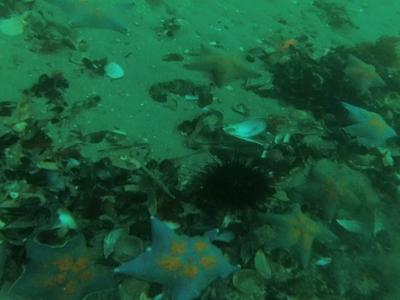scallop: (220, 118, 276, 148), (50, 204, 81, 235), (103, 62, 126, 80)
urchin: (197, 154, 272, 214)
